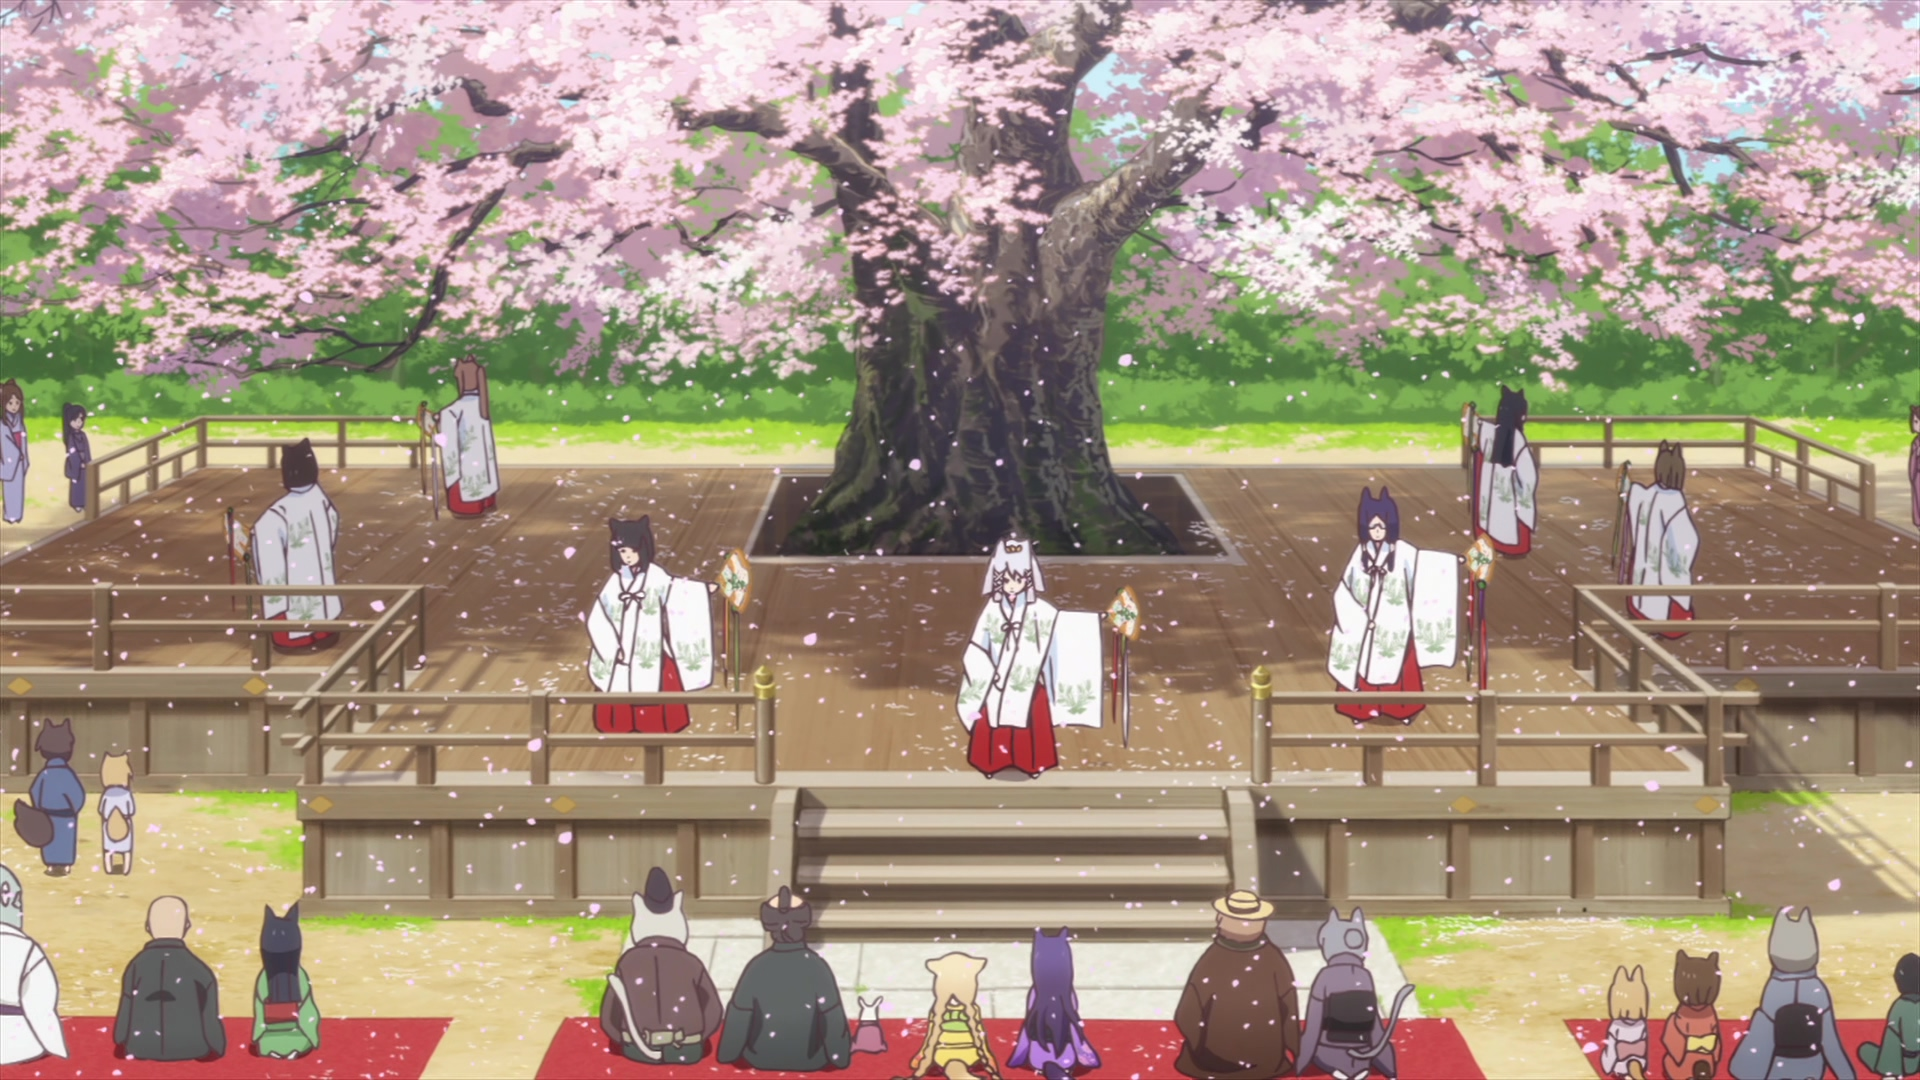其他: (585, 516, 756, 731), (223, 435, 347, 657), (717, 887, 847, 1077), (1174, 891, 1302, 1080), (603, 869, 723, 1067), (1725, 905, 1850, 1080), (1300, 909, 1414, 1080), (117, 894, 229, 1065), (1614, 436, 1695, 634), (414, 353, 502, 522), (1, 865, 63, 1080), (1458, 389, 1538, 553), (249, 905, 320, 1060), (15, 720, 84, 878), (1662, 949, 1721, 1080), (1858, 953, 1920, 1077), (1600, 965, 1652, 1080), (98, 754, 136, 872), (1, 382, 30, 524), (61, 406, 94, 508), (855, 994, 889, 1052)
柊: (956, 535, 1137, 782)
柚: (913, 952, 994, 1080)
皋: (1011, 926, 1104, 1080)
菖: (1329, 489, 1495, 723)
